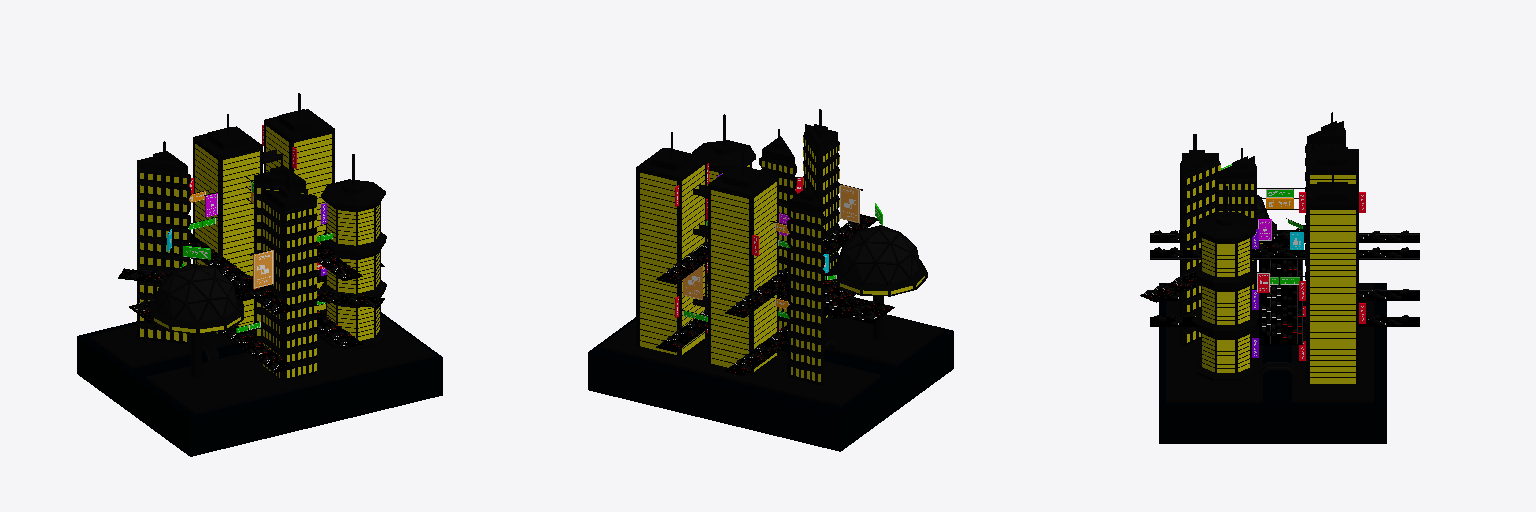
3 renders of one model, left to right at view 1: azimuth 30°, elevation 25°; view 2: azimuth 150°, elevation 25°; view 3: azimuth 270°, elevation 25°, orthographic.
Parts seen in each view (by area): view 1: Cube.086_Cube.438, Cube.088_Cube.440, Cube.013_Cube.385, Building_Cube.066, Cube.054_Cube.217, Icosphere, Building.001_Cube.067, Cylinder.002_Cylinder.018, Cube.087_Cube.439, Cylinder.001_Cylinder.017, Cylinder_Cylinder.016, Cube.053_Cube.087 (+4 smaller); view 2: Cube.086_Cube.438, Building_Cube.066, Building.001_Cube.067, Cube.054_Cube.217, Cube.087_Cube.439, Icosphere, Cube.088_Cube.440, Cube.013_Cube.385, Cube.053_Cube.087, Cylinder.002_Cylinder.018, RoadWithCars.003_Cube.330, RoadWithCars.004_Cube.448 (+4 smaller); view 3: Cube.086_Cube.438, Building.001_Cube.067, Cube.013_Cube.385, Cube.088_Cube.440, Cylinder.002_Cylinder.018, Cube.087_Cube.439, Cylinder.001_Cylinder.017, Cylinder_Cylinder.016, Road.004_Cube.032, Cube.053_Cube.087, Building_Cube.066, RoadWithCars_Cube.059 (+4 smaller).
Part boxes in pixels (bbox=[...]): Cube.086_Cube.438: bbox=[77, 312, 442, 456]; Cube.088_Cube.440: bbox=[145, 318, 433, 414]; Cube.013_Cube.385: bbox=[263, 172, 316, 381]; Building_Cube.066: bbox=[193, 114, 262, 334]; Cube.054_Cube.217: bbox=[137, 141, 190, 344]; Icosphere: bbox=[150, 263, 243, 377]; Building.001_Cube.067: bbox=[264, 93, 334, 310]; Cylinder.002_Cylinder.018: bbox=[321, 154, 386, 253]; Cube.087_Cube.439: bbox=[90, 310, 324, 368]; Cylinder.001_Cylinder.017: bbox=[320, 240, 386, 297]; Cylinder_Cylinder.016: bbox=[320, 288, 386, 349]; Cube.053_Cube.087: bbox=[254, 156, 307, 343]; Cube.086_Cube.438: bbox=[588, 314, 953, 451]; Building_Cube.066: bbox=[708, 153, 778, 373]; Building.001_Cube.067: bbox=[636, 132, 706, 356]; Cube.054_Cube.217: bbox=[787, 179, 824, 385]; Cube.087_Cube.439: bbox=[600, 320, 880, 407]; Icosphere: bbox=[830, 225, 927, 339]; Cube.088_Cube.440: bbox=[707, 308, 943, 366]; Cube.013_Cube.385: bbox=[803, 109, 839, 318]; Cube.053_Cube.087: bbox=[759, 129, 796, 328]; Cylinder.002_Cylinder.018: bbox=[692, 114, 755, 198]; RoadWithCars.003_Cube.330: bbox=[725, 214, 877, 317]; RoadWithCars.004_Cube.448: bbox=[725, 288, 855, 375]; Cube.086_Cube.438: bbox=[1159, 283, 1386, 443]; Building.001_Cube.067: bbox=[1306, 164, 1358, 383]; Cube.013_Cube.385: bbox=[1180, 134, 1220, 346]; Cube.088_Cube.440: bbox=[1166, 283, 1262, 402]; Cylinder.002_Cylinder.018: bbox=[1196, 186, 1256, 285]; Cube.087_Cube.439: bbox=[1292, 283, 1373, 402]; Cylinder.001_Cylinder.017: bbox=[1196, 279, 1256, 333]; Cylinder_Cylinder.016: bbox=[1196, 327, 1256, 380]; Road.004_Cube.032: bbox=[1259, 230, 1302, 344]; Cube.053_Cube.087: bbox=[1216, 148, 1256, 337]; Building_Cube.066: bbox=[1306, 132, 1358, 183]; RoadWithCars_Cube.059: bbox=[1150, 250, 1419, 259].
Bounding box in the file's own units: 48.22 × 45.74 × 45.92.
22 materials, 9 textured.